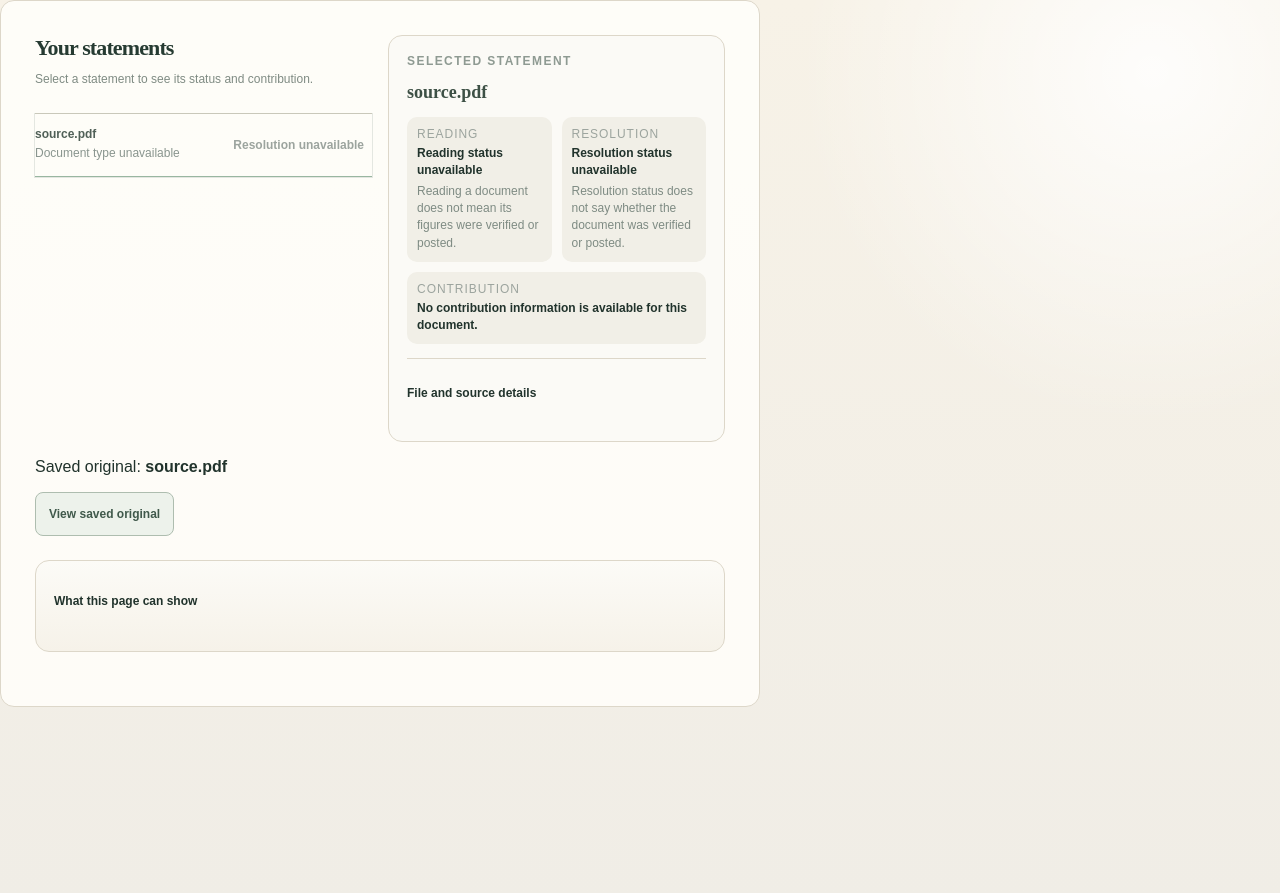
it: opens saved originals outside the narrow library and metadata columns
What coordinates should you click on to do the following:
click the button "View saved original"
I would click on:
 (105, 514)
Its box is top-left (35, 492), bottom-right (174, 536).
(page scrolled)
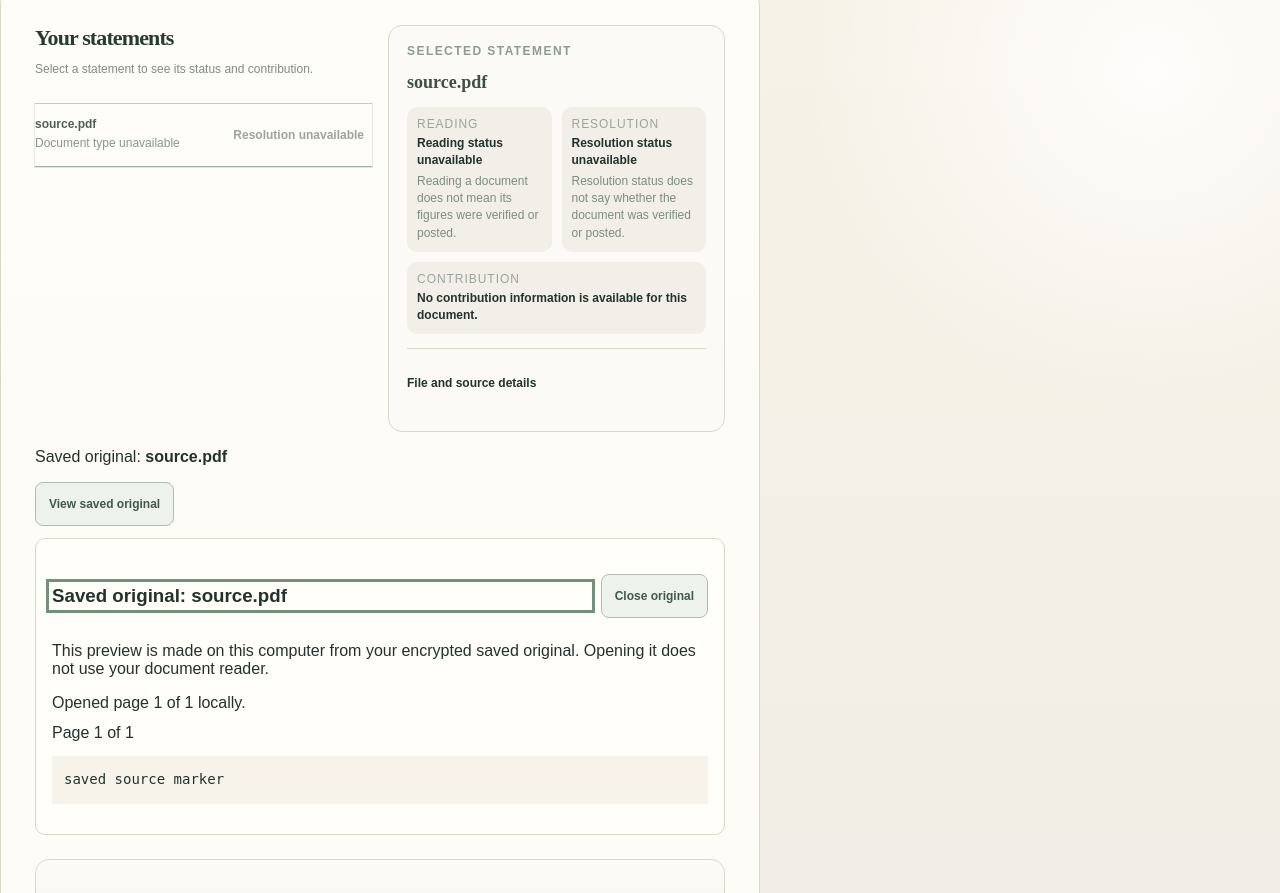
Expected: the text "saved source marker" is shown, top-left (52, 756), bottom-right (708, 804)
